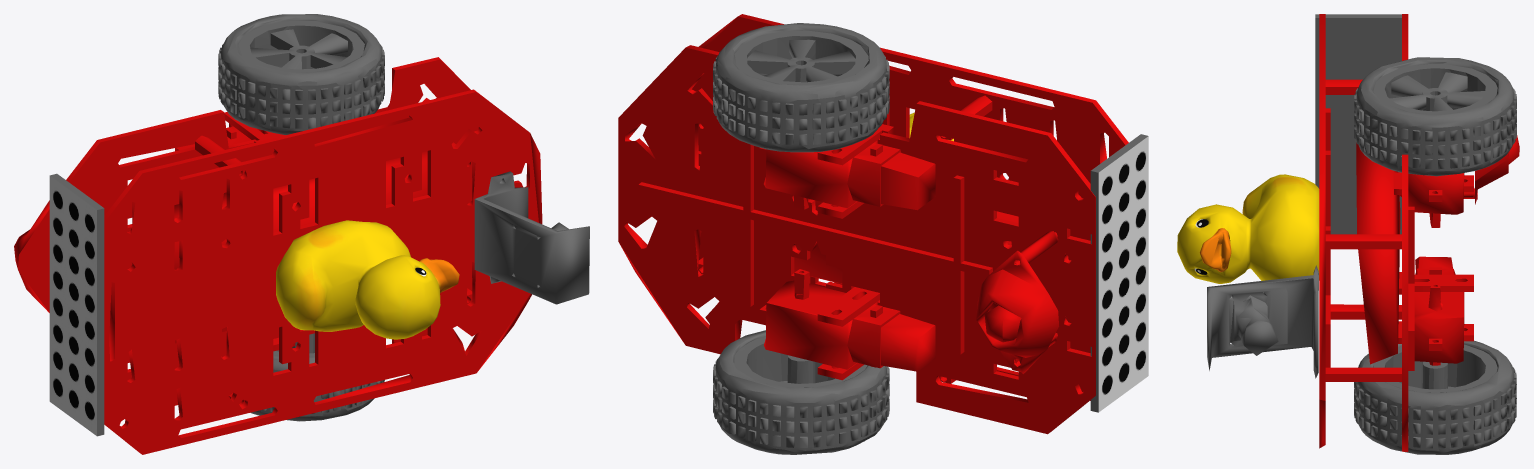
Rendered from main.gltf.
The picture shows the model from 3 angles, left to right: view 1: azimuth 30°, elevation 25°; view 2: azimuth 150°, elevation 25°; view 3: azimuth 270°, elevation 25°; orthographic projection. The views are drawn at different scales.
Visible parts, largest first — view 1: chassis_package://duckiebot_description/meshes/duckiebotFra., left_wheel_package://duckiebot_description/meshes/duckiebot., LOD3sp_LOD3spShape, BackPanel_BackPlate, camera_package://duckiebot_description/meshes/duckiebot_cam., right_wheel_package://duckiebot_description/meshes/duckiebo.; view 2: chassis_package://duckiebot_description/meshes/duckiebotFra., left_wheel_package://duckiebot_description/meshes/duckiebot., right_wheel_package://duckiebot_description/meshes/duckiebo., BackPanel_BackPlate; view 3: chassis_package://duckiebot_description/meshes/duckiebotFra., left_wheel_package://duckiebot_description/meshes/duckiebot., right_wheel_package://duckiebot_description/meshes/duckiebo., LOD3sp_LOD3spShape, BackPanel_BackPlate, camera_package://duckiebot_description/meshes/duckiebot_cam..
Part boxes in pixels (box(x1,y1,x2,y2)): chassis_package://duckiebot_description/meshes/duckiebotFra.: box(14, 57, 542, 454); left_wheel_package://duckiebot_description/meshes/duckiebot.: box(218, 14, 384, 135); LOD3sp_LOD3spShape: box(276, 220, 459, 339); BackPanel_BackPlate: box(49, 173, 104, 436); camera_package://duckiebot_description/meshes/duckiebot_cam.: box(474, 171, 589, 304); right_wheel_package://duckiebot_description/meshes/duckiebo.: box(250, 333, 384, 421); chassis_package://duckiebot_description/meshes/duckiebotFra.: box(618, 14, 1128, 434); left_wheel_package://duckiebot_description/meshes/duckiebot.: box(713, 23, 889, 152); right_wheel_package://duckiebot_description/meshes/duckiebo.: box(713, 330, 889, 454); BackPanel_BackPlate: box(1090, 134, 1148, 412); chassis_package://duckiebot_description/meshes/duckiebotFra.: box(1319, 14, 1519, 451); left_wheel_package://duckiebot_description/meshes/duckiebot.: box(1354, 57, 1516, 176); right_wheel_package://duckiebot_description/meshes/duckiebo.: box(1354, 340, 1516, 454); LOD3sp_LOD3spShape: box(1177, 174, 1319, 283); BackPanel_BackPlate: box(1315, 14, 1401, 234); camera_package://duckiebot_description/meshes/duckiebot_cam.: box(1207, 265, 1318, 378).
Bounding box in the file's own units: 0.2009 × 0.1472 × 0.1347.
7 materials, 2 textured.
